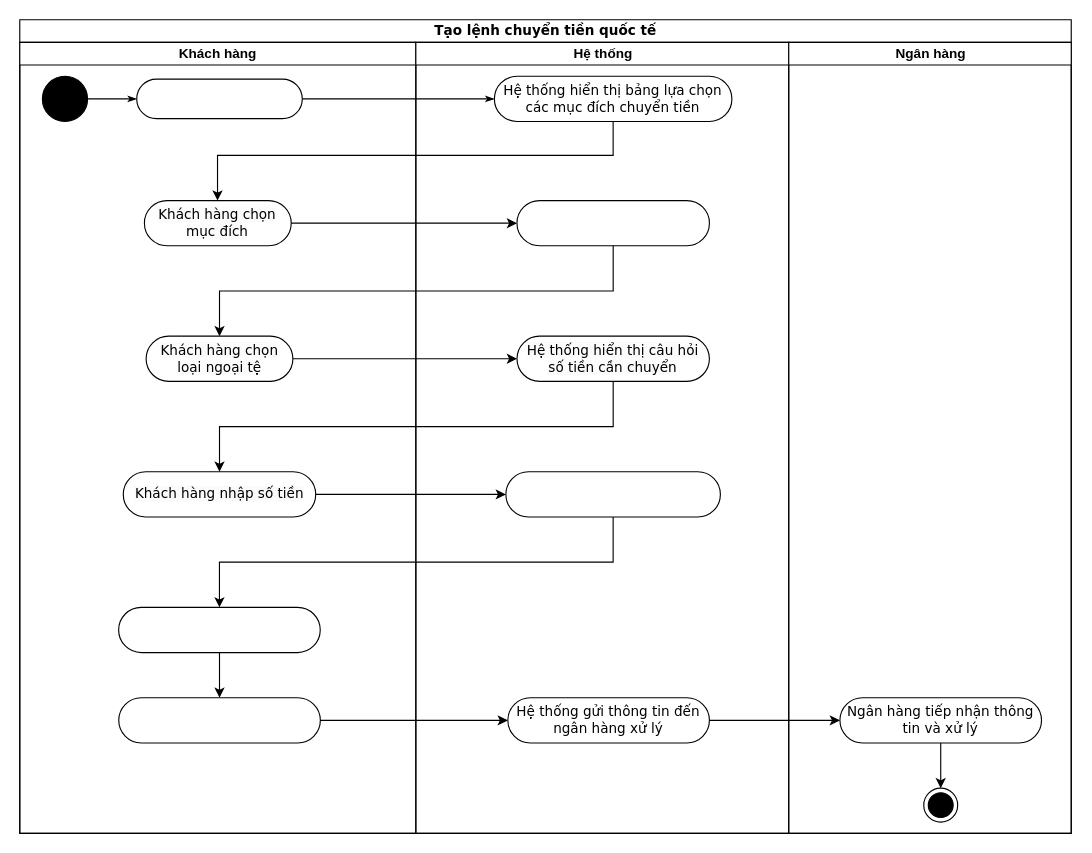
The diagram is 1092 pixels wide and 853 high, and some of its shapes have lost their labels. Here are the shapes that lost their labels. From the top down, the centre of each, then its label:
At (219,98): "Chọn Tạo lệnh chuyển tiền quốc tế".
At (612,222): "Hệ thống hiển thị danh sách các loại ngoại tệ".
At (612,494): "Hệ thống hiển thị biểu mẫu thông tin người nhận".
At (219,629): "Khách hàng nhập biểu mẫu".
At (219,720): "Khách hàng nhấn Xác nhận".
